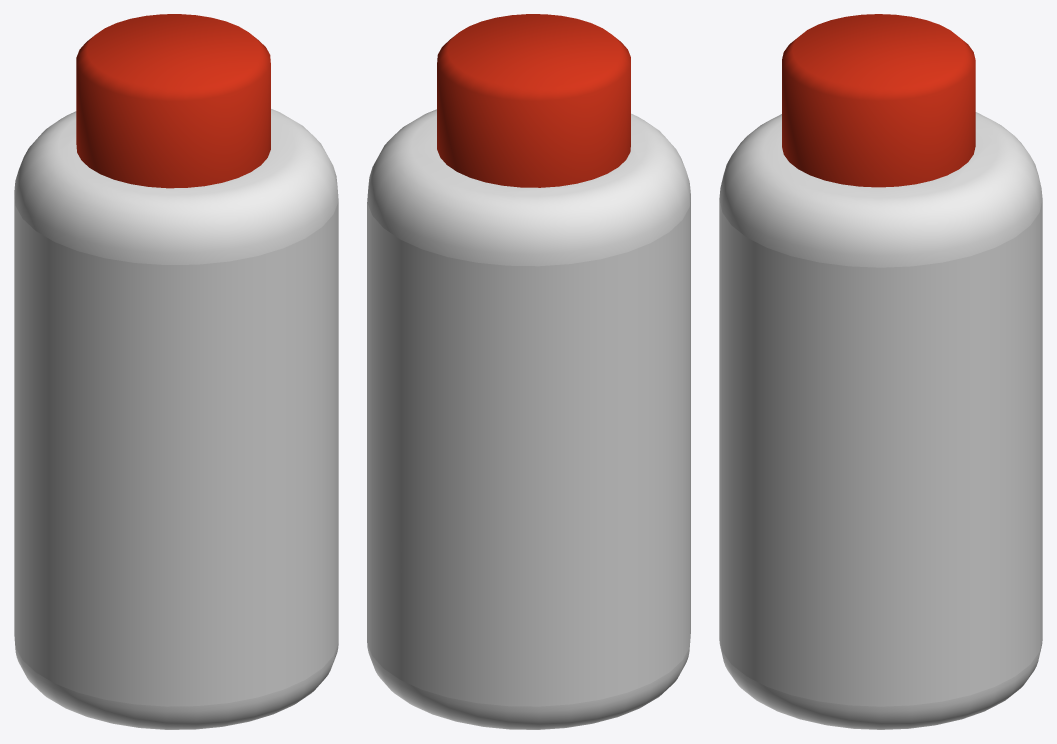
The model's file is flacon.fbx.
The picture shows the model from 3 angles, left to right: view 1: azimuth 30°, elevation 25°; view 2: azimuth 150°, elevation 25°; view 3: azimuth 270°, elevation 25°; orthographic projection.
Visible parts, largest first — view 1: corps, bouteille, bouchon; view 2: corps, bouteille, bouchon; view 3: corps, bouteille, bouchon.
Boxes of the visible parts, <box> form: corps: <box>14,195,338,590</box>; bouteille: <box>14,109,338,729</box>; bouchon: <box>76,14,270,188</box>; corps: <box>367,193,690,590</box>; bouteille: <box>367,109,690,729</box>; bouchon: <box>437,14,630,187</box>; corps: <box>719,200,1042,590</box>; bouteille: <box>719,112,1042,729</box>; bouchon: <box>782,14,975,187</box>.
Size of the model in its own units: 200 by 423 by 200.
